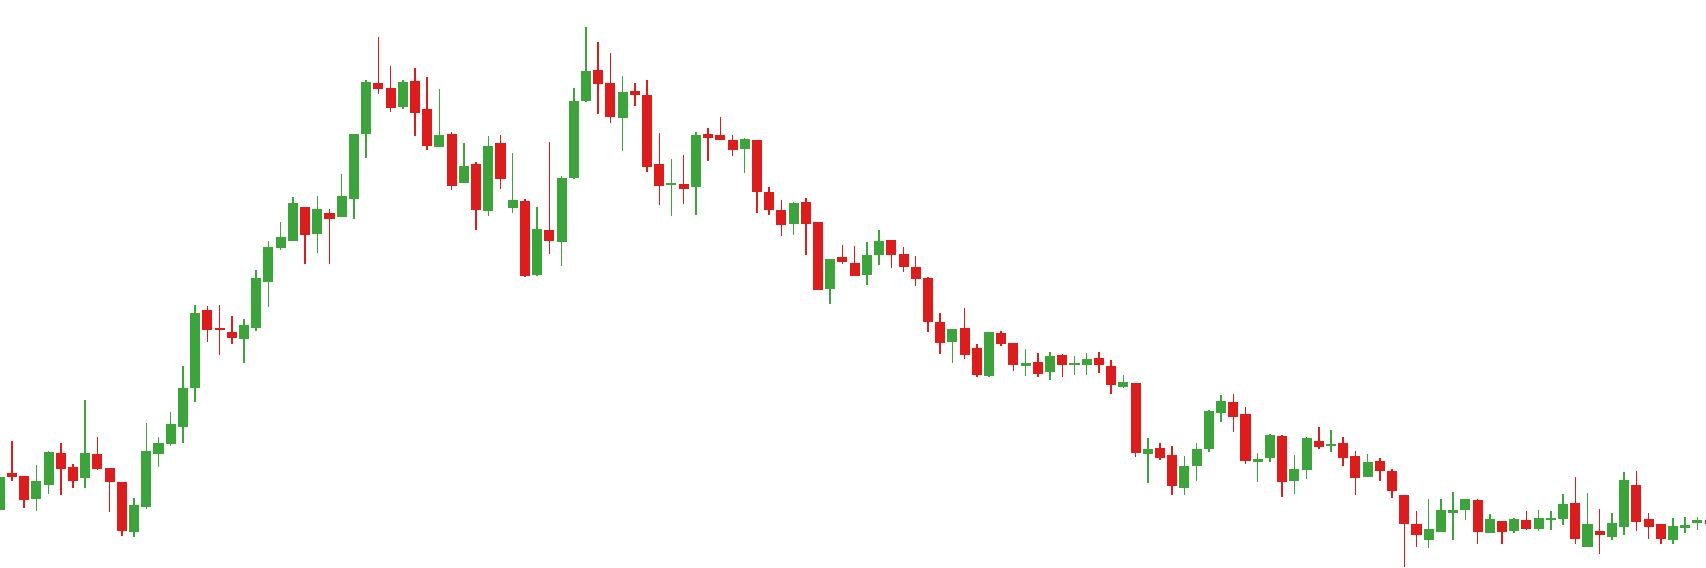buy: (18, 448, 140, 542)
sell: (386, 20, 605, 195), (1263, 422, 1326, 476)
